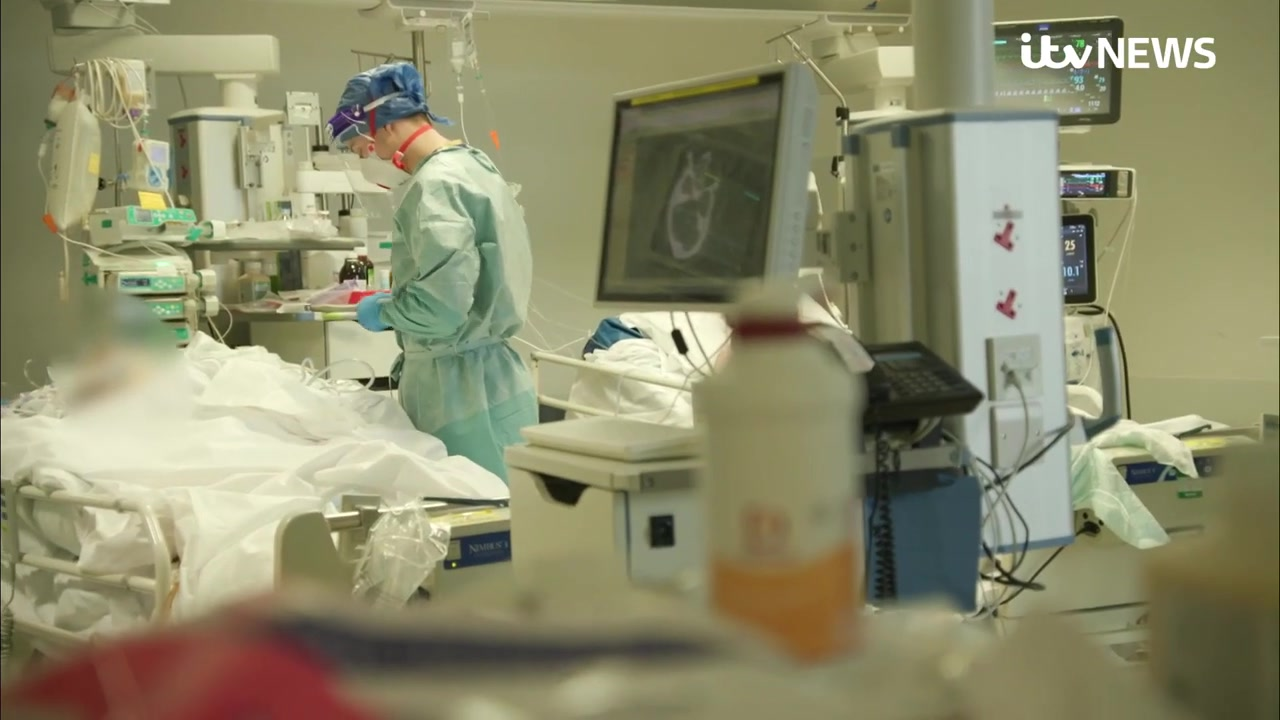bedrail: (1, 473, 172, 652)
bedside_monitor: (592, 88, 777, 305), (996, 15, 1125, 125), (1062, 213, 1098, 306)
foot_board: (274, 501, 517, 632)
hospital_bed: (59, 344, 514, 652)
iv_pole: (767, 30, 851, 334), (70, 58, 159, 205)
patient: (39, 325, 341, 437)
staff: (324, 60, 539, 472)
syringe_pump: (91, 204, 200, 243), (104, 265, 188, 295), (145, 299, 190, 320)
telephone: (863, 339, 987, 576)
